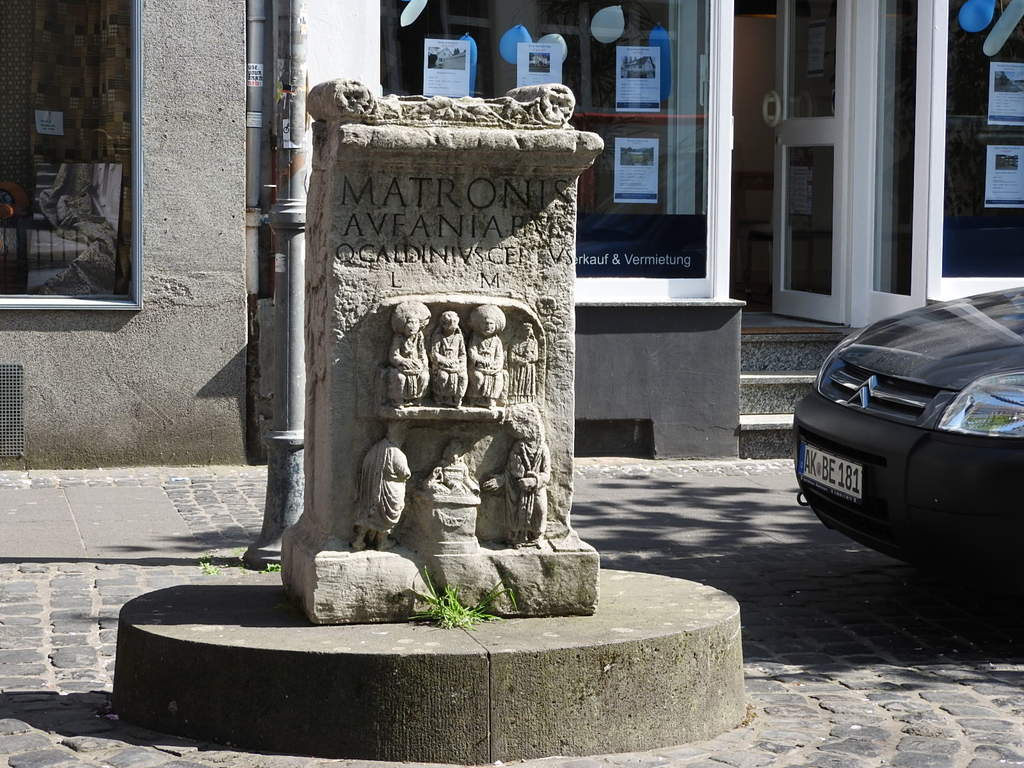Car: (784, 288, 1018, 592)
